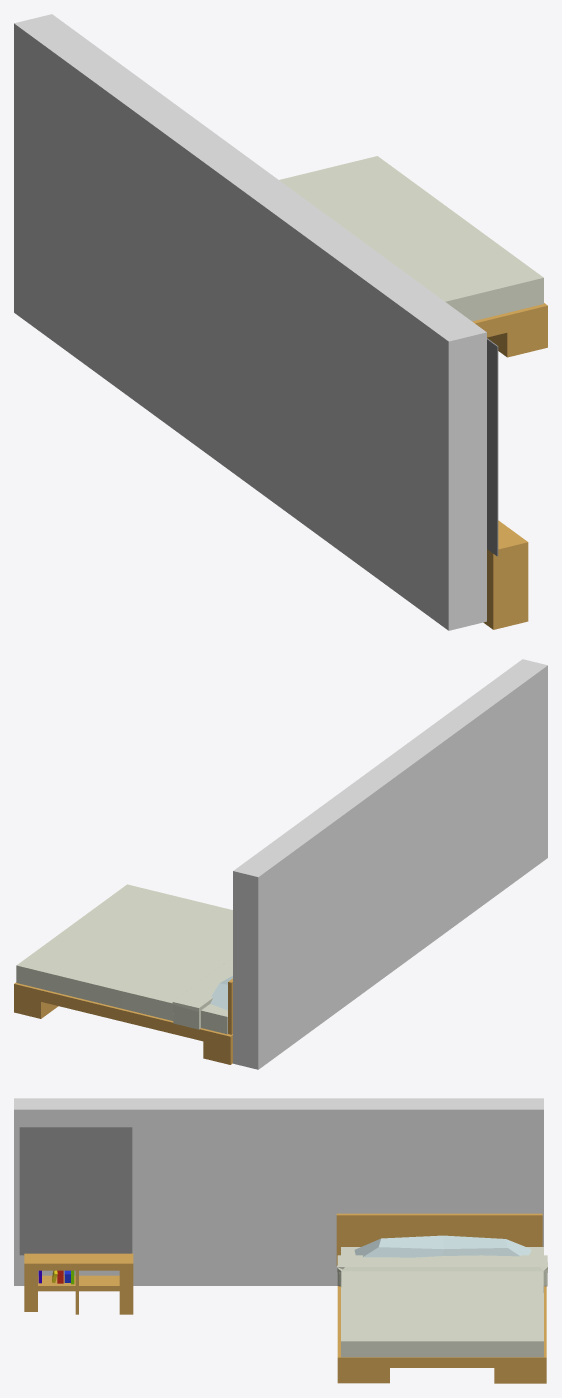
Rendered from Tlax-roomm.glb.
The picture shows the model from 3 angles, top to bottom: view 1: azimuth 30°, elevation 25°; view 2: azimuth 150°, elevation 25°; view 3: azimuth 270°, elevation 25°; orthographic projection. The views are drawn at different scales.
Visible parts, largest first — view 1: Cubo.012, Cubo.003, Cubo.005, Cubo, Cubo.011; view 2: Cubo.012, Cubo.003, Cubo; view 3: Cubo.012, Cubo.003, Cubo.011, Cubo.001, Cubo.005, Cubo, Cubo.004.
Part boxes in pixels (left/top/right/bottom): Cubo.012: left=14, top=14, right=486, bottom=630; Cubo.003: left=279, top=156, right=543, bottom=321; Cubo.005: left=483, top=520, right=528, bottom=629; Cubo: left=472, top=303, right=547, bottom=357; Cubo.011: left=487, top=338, right=498, bottom=556; Cubo.012: left=233, top=659, right=547, bottom=1069; Cubo.003: left=16, top=884, right=232, bottom=1034; Cubo: left=14, top=982, right=232, bottom=1064; Cubo.012: left=14, top=1098, right=543, bottom=1285; Cubo.003: left=337, top=1247, right=547, bottom=1357; Cubo.011: left=19, top=1127, right=132, bottom=1255; Cubo.001: left=336, top=1213, right=542, bottom=1265; Cubo.005: left=24, top=1253, right=133, bottom=1314; Cubo: left=337, top=1286, right=546, bottom=1383; Cubo.004: left=354, top=1235, right=531, bottom=1257.
Size of what is drawn, in the model's own units: 1.15 by 0.9391 by 2.39.
